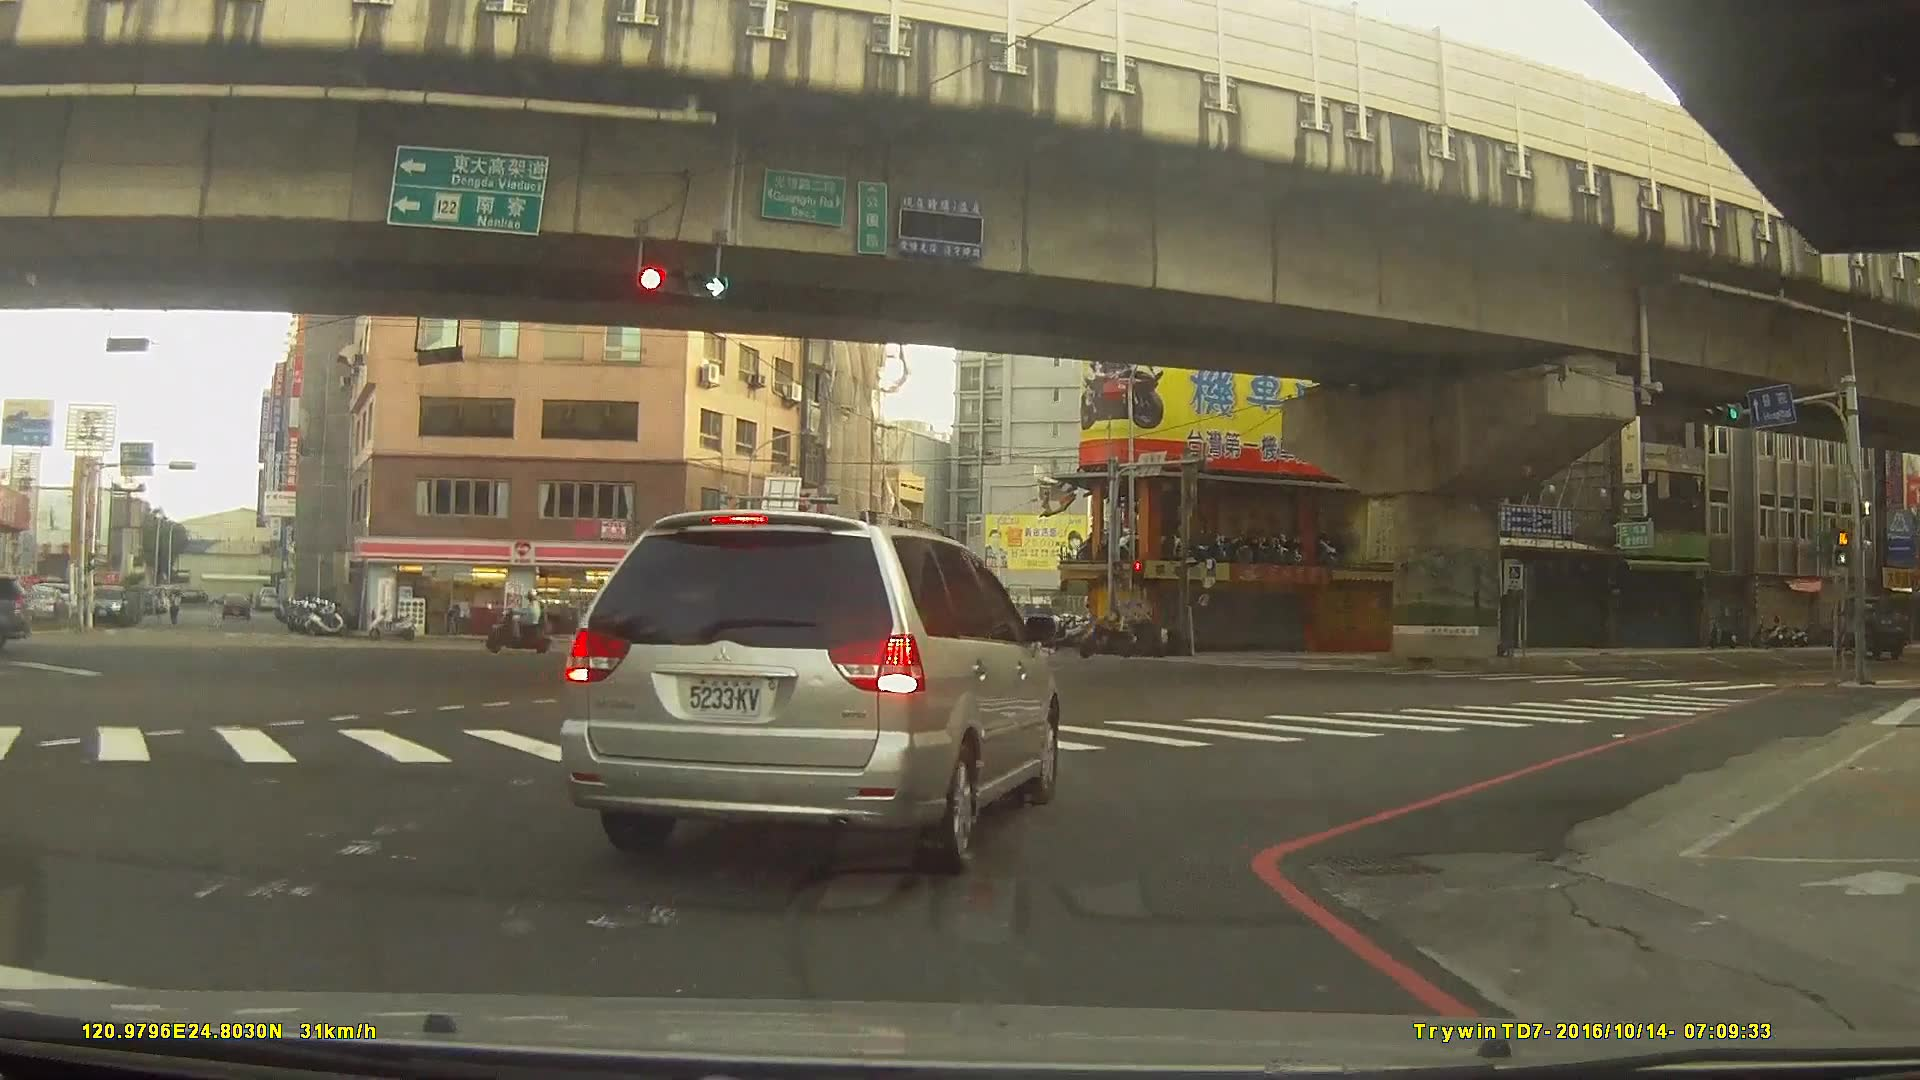rider: (486, 589, 556, 651), (1079, 599, 1138, 657)
vehicle: (557, 508, 1060, 873), (1828, 592, 1905, 660), (872, 625, 940, 664), (84, 583, 127, 628), (543, 606, 605, 633), (216, 590, 252, 622)
